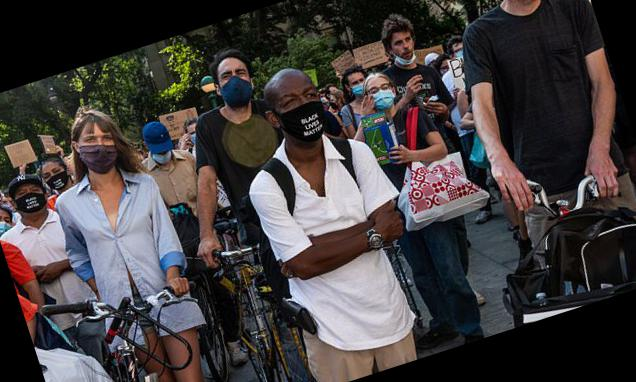mask_weared_incorrect: (391, 33, 420, 69)
with_mask: (274, 79, 326, 134), (76, 125, 123, 168), (217, 61, 254, 100), (13, 184, 48, 213), (39, 162, 67, 190), (368, 79, 395, 106), (151, 146, 174, 165), (349, 74, 368, 93), (326, 94, 343, 113), (1, 212, 15, 233), (188, 126, 200, 141)
